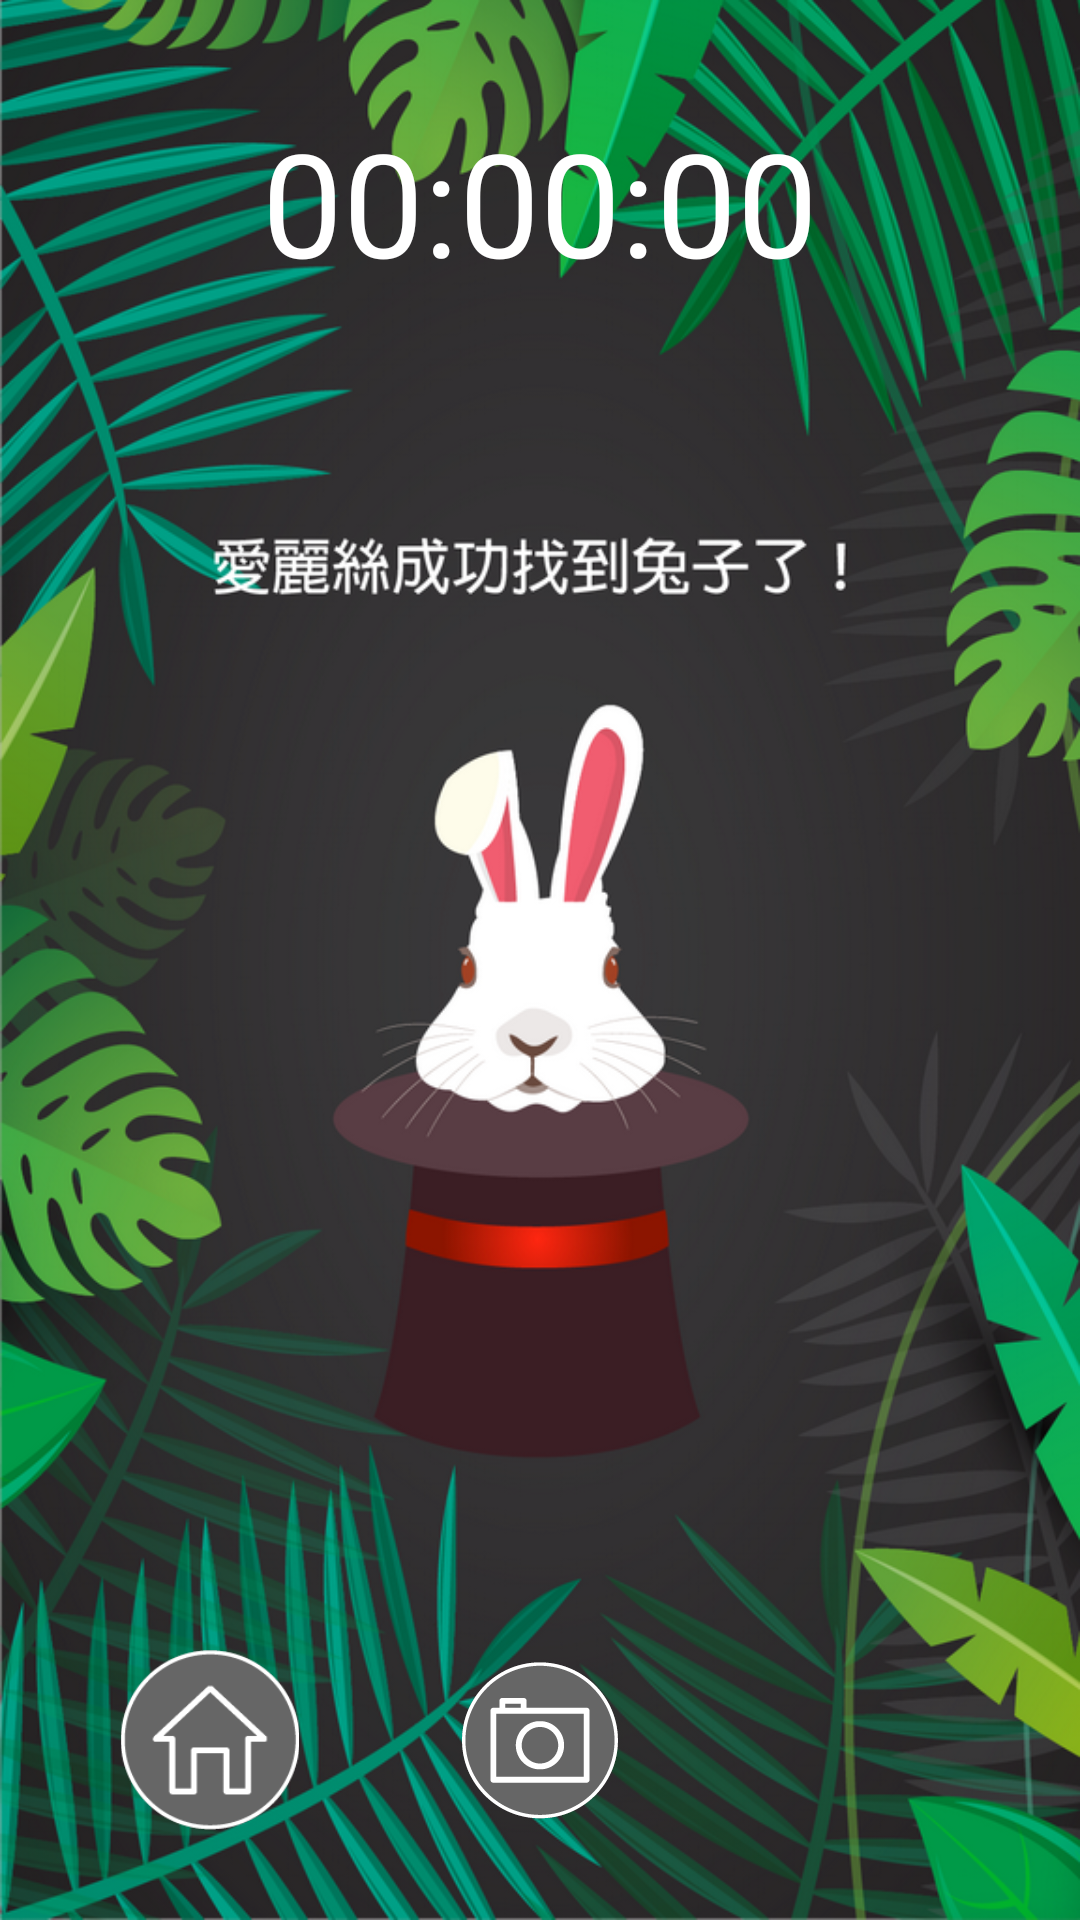

Point at icon controls on the screen. Image size 1080 x 1920, points as point (x, y).
camera: point (540, 1740)
home: point (210, 1740)
